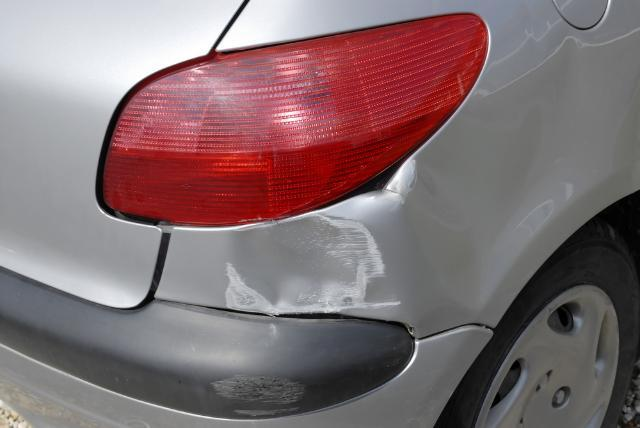dent: (406, 33, 604, 307), (230, 214, 405, 318)
scratch: (200, 370, 310, 418), (223, 262, 277, 319)
